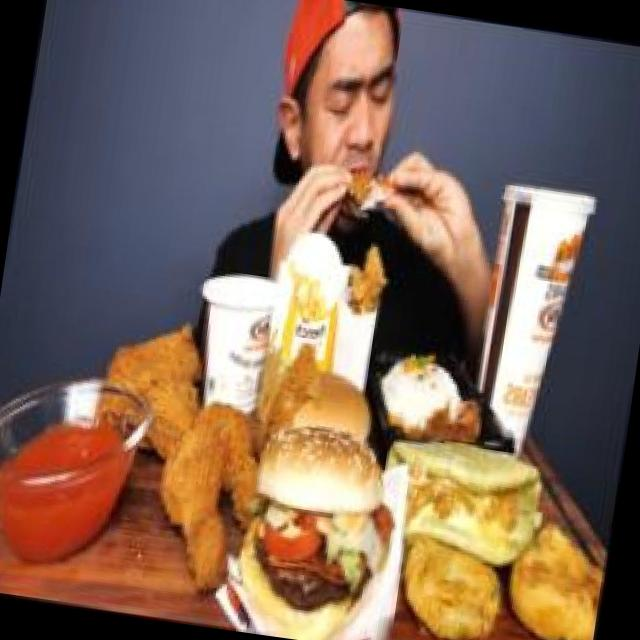AW cola: (454, 160, 600, 462)
black pepper rice bowl: (366, 326, 486, 459)
cheese burger: (266, 367, 380, 464)
chicken waffle: (330, 250, 397, 344)
crispy corn: (180, 260, 286, 428)
french fries: (272, 262, 338, 342)
fried chicken: (65, 292, 290, 618), (254, 326, 330, 453), (324, 156, 411, 236)
mango chicken pocket: (363, 422, 558, 578)
mozza burger: (221, 418, 409, 640)
perkedel: (384, 518, 514, 640), (499, 505, 613, 640)
